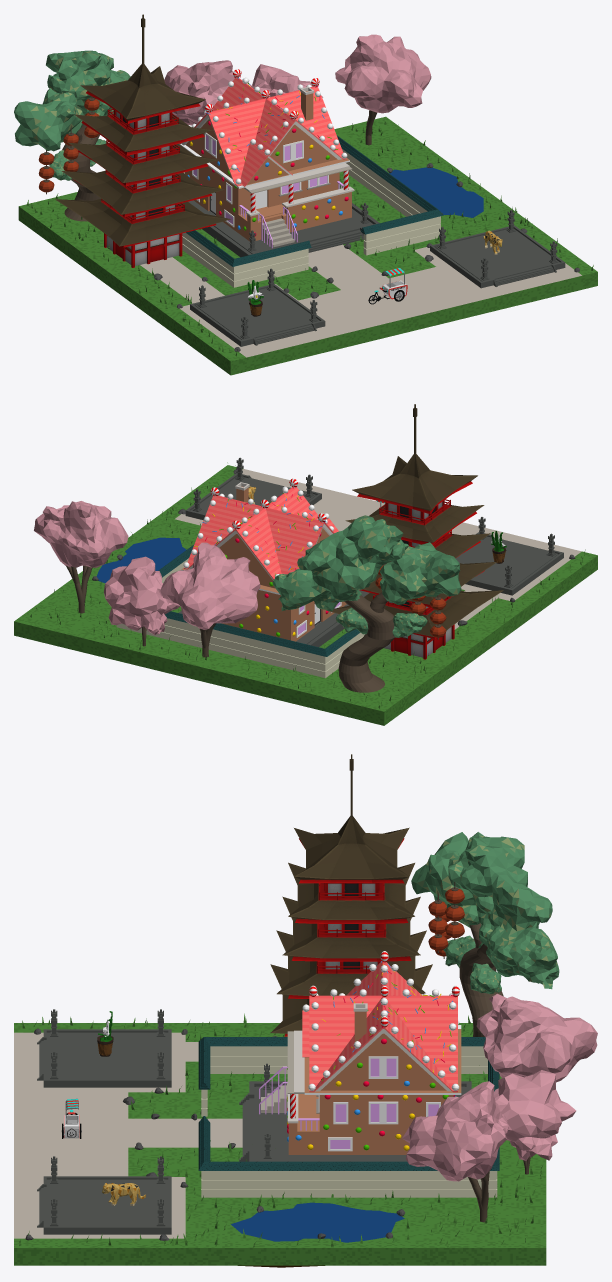
3 renders of one model, top to bottom at view 1: azimuth 30°, elevation 25°; view 2: azimuth 150°, elevation 25°; view 3: azimuth 270°, elevation 25°, orthographic. The views are drawn at different scales.
Visible parts, largest first — view 1: Cube.005, Cube.1203, VEHICLES_SNOWBAL_BIKE; view 2: Cube.005, Cube.1203; view 3: Cube.005, Cube.1203.
Boxes of the visible parts, box(x1,y1,x2,y2) form: Cube.005: box(14, 14, 597, 375); Cube.1203: box(179, 69, 354, 248); VEHICLES_SNOWBAL_BIKE: box(368, 268, 407, 304); Cube.005: box(14, 404, 597, 725); Cube.1203: box(181, 478, 346, 641); Cube.005: box(14, 754, 597, 1265); Cube.1203: box(259, 951, 461, 1154).
Bounding box in the file's own units: 4528 × 2756 × 4389.
52 materials, 6 textured.
